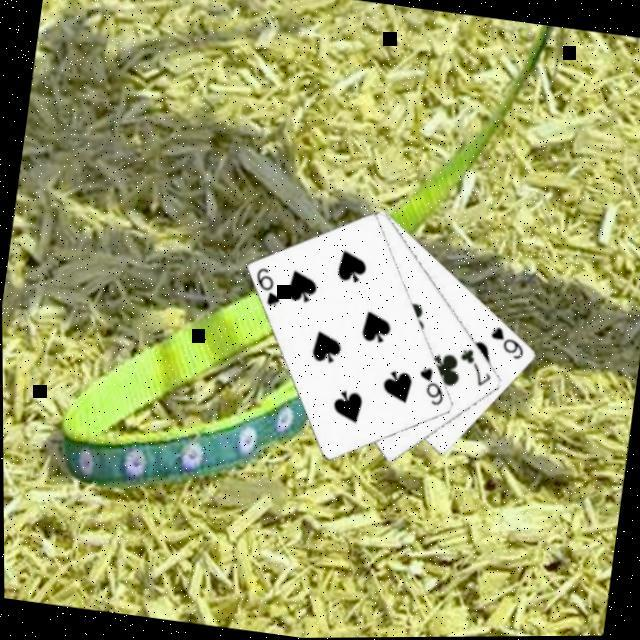6S: (482, 322, 529, 362), (409, 362, 448, 408), (247, 262, 286, 308)
7C: (450, 342, 496, 390)
